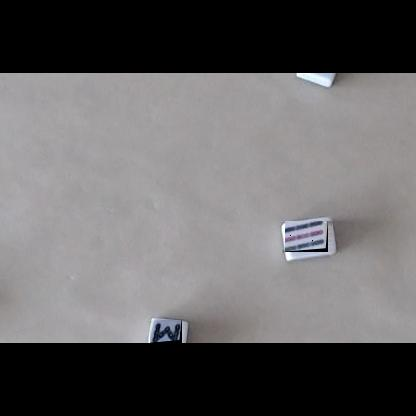8s: (150, 320, 182, 343)
9s: (286, 221, 333, 252)
